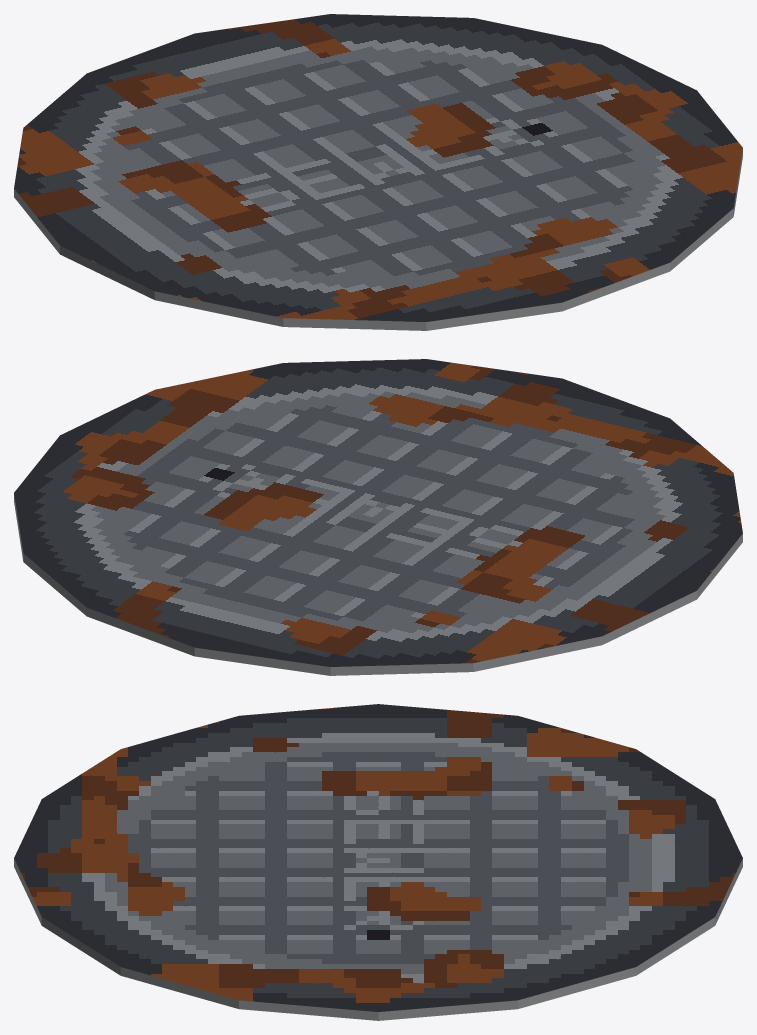
The model's file is SP_ManholeCover.obj.
3 renders of one model, top to bottom at view 1: azimuth 30°, elevation 25°; view 2: azimuth 150°, elevation 25°; view 3: azimuth 270°, elevation 25°, orthographic.
Parts seen in each view (by area): view 1: SP_ManholeCover_Mesh_M_Town_ManholeCover, SP_ManholeCover_Mesh_M_Furn_MetalBrushed; view 2: SP_ManholeCover_Mesh_M_Town_ManholeCover, SP_ManholeCover_Mesh_M_Furn_MetalBrushed; view 3: SP_ManholeCover_Mesh_M_Town_ManholeCover, SP_ManholeCover_Mesh_M_Furn_MetalBrushed.
Boxes of the visible parts, box(x1,y1,x2,y2) form: SP_ManholeCover_Mesh_M_Town_ManholeCover: box(14, 14, 742, 321); SP_ManholeCover_Mesh_M_Furn_MetalBrushed: box(14, 149, 742, 330); SP_ManholeCover_Mesh_M_Town_ManholeCover: box(14, 359, 742, 666); SP_ManholeCover_Mesh_M_Furn_MetalBrushed: box(14, 494, 742, 675); SP_ManholeCover_Mesh_M_Town_ManholeCover: box(14, 704, 742, 1011); SP_ManholeCover_Mesh_M_Furn_MetalBrushed: box(14, 858, 742, 1020).
Bounding box in the file's own units: 0.9 × 0.012 × 0.9.
Materials: 2 (2 with a texture image).
